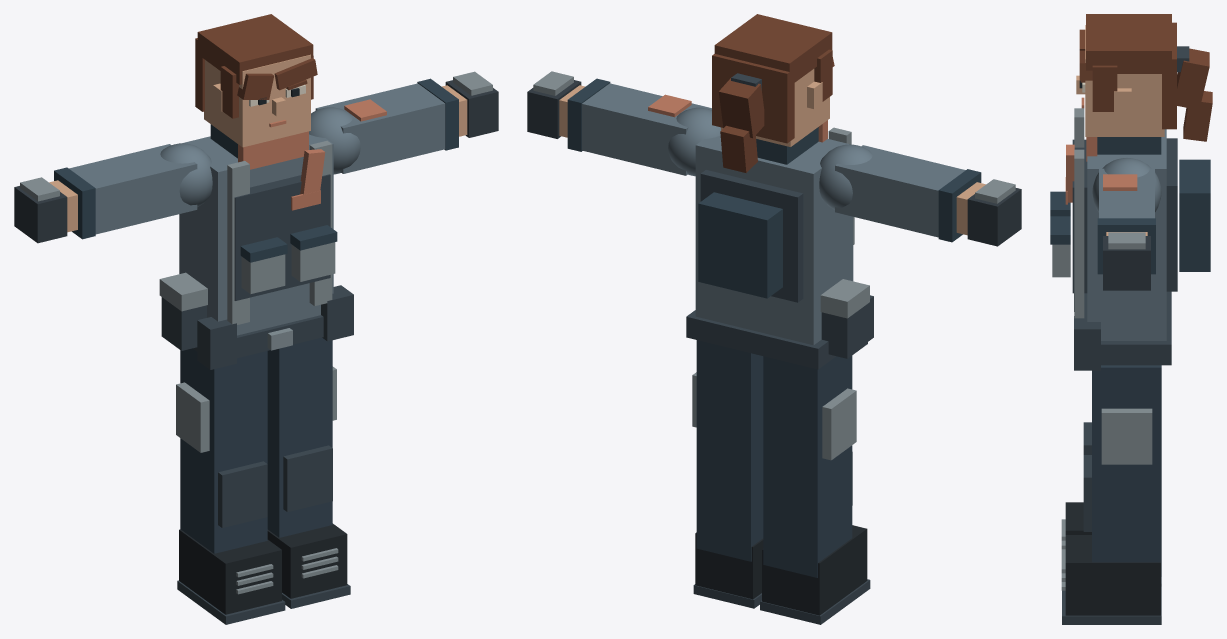
File: andel.glb
3 views of the same model, side by side, from view 1: azimuth 30°, elevation 25°; view 2: azimuth 150°, elevation 25°; view 3: azimuth 270°, elevation 25° (orthographic). The views are drawn at different scales.
Parts seen in each view (by area): view 1: trousers_R, trousers_L, jacket_body, sleeve_R, sleeve_L, vest_front, boot_R, face, hair_crown, boot_L, knee_patch_L, knee_patch_R (+25 smaller); view 2: trousers_R, trousers_L, jacket_body, small_pack, sleeve_R, sleeve_L, boot_R, hair_crown, vest_back, hair_nape, belt, boot_L (+17 smaller); view 3: trousers_L, jacket_body, boot_L, hair_crown, face, small_pack, cargo_pocket_L, glove_L, belt, sleeve_L, shoulder_strap_L, vest_back (+24 smaller).
Boxes of the visible parts, x1=… form: trousers_R: x1=180, y1=348, x2=267, y2=553; trousers_L: x1=267, y1=337, x2=332, y2=537; jacket_body: x1=179, y1=134, x2=333, y2=335; sleeve_R: x1=69, y1=144, x2=197, y2=234; sleeve_L: x1=315, y1=83, x2=445, y2=173; vest_front: x1=234, y1=174, x2=330, y2=300; boot_R: x1=179, y1=529, x2=281, y2=614; face: x1=204, y1=54, x2=310, y2=147; hair_crown: x1=197, y1=14, x2=313, y2=84; boot_L: x1=267, y1=523, x2=347, y2=598; knee_patch_L: x1=283, y1=445, x2=332, y2=511; knee_patch_R: x1=218, y1=461, x2=267, y2=527; trousers_R: x1=763, y1=355, x2=852, y2=577; trousers_L: x1=696, y1=340, x2=763, y2=561; jacket_body: x1=695, y1=135, x2=853, y2=345; small_pack: x1=698, y1=192, x2=782, y2=298; sleeve_R: x1=835, y1=145, x2=965, y2=237; sleeve_L: x1=582, y1=83, x2=711, y2=175; boot_R: x1=762, y1=525, x2=867, y2=615; hair_crown: x1=714, y1=14, x2=832, y2=85; vest_back: x1=700, y1=170, x2=803, y2=302; hair_nape: x1=712, y1=53, x2=794, y2=143; belt: x1=686, y1=310, x2=835, y2=369; boot_L: x1=695, y1=532, x2=763, y2=599; trousers_L: x1=1092, y1=365, x2=1161, y2=576; jacket_body: x1=1087, y1=129, x2=1166, y2=340; boot_L: x1=1065, y1=535, x2=1160, y2=615; hair_crown: x1=1086, y1=14, x2=1171, y2=73; face: x1=1085, y1=25, x2=1164, y2=136; small_pack: x1=1179, y1=159, x2=1210, y2=271; cargo_pocket_L: x1=1101, y1=408, x2=1152, y2=464; glove_L: x1=1103, y1=236, x2=1150, y2=290; belt: x1=1084, y1=291, x2=1171, y2=365; sleeve_L: x1=1099, y1=168, x2=1154, y2=218; shoulder_strap_L: x1=1074, y1=149, x2=1084, y2=318; vest_back: x1=1166, y1=138, x2=1177, y2=291.
Bounding box in the file's own units: 1.59 × 1.81 × 0.4734.
